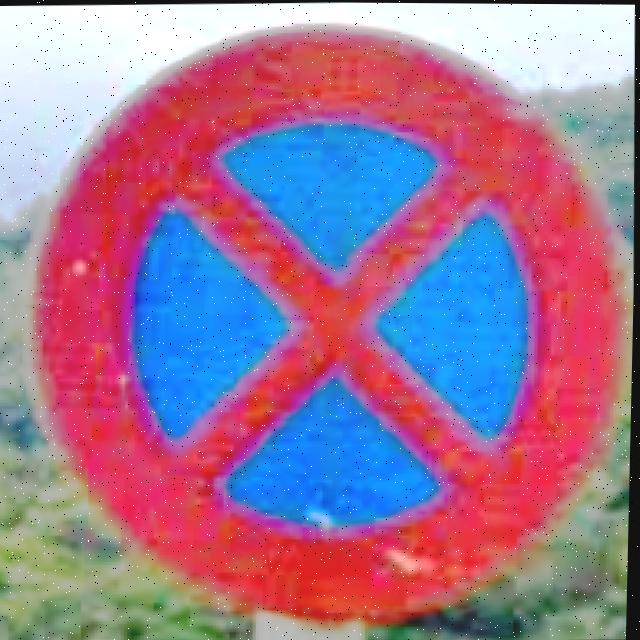nostop: (13, 12, 640, 631)
